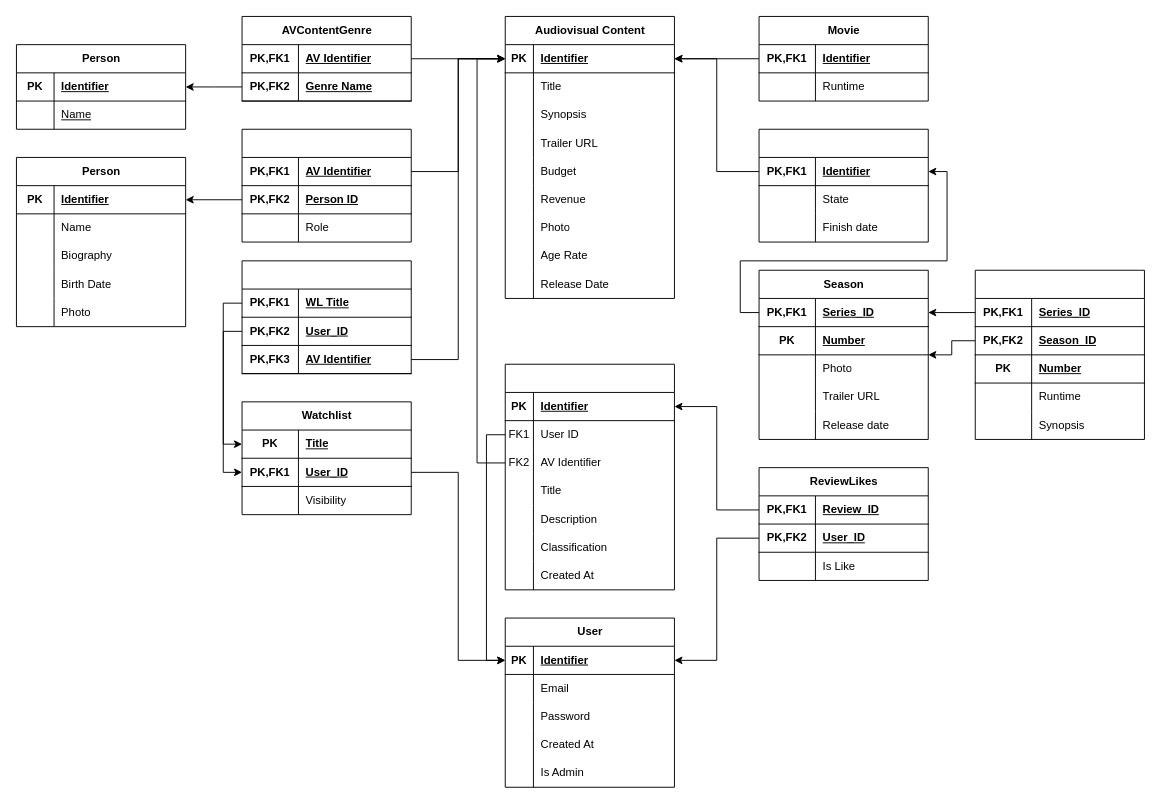
Image size: 1161x804. Some labels were removed from this diagram. The shapes that lost their labels are listed below. From the top down, each one's box as (x1, y1, x2, y2) in pixels, then its label:
(241, 128, 411, 242): AVContentPerson
(758, 128, 928, 242): TV Series
(241, 260, 411, 374): WatchlistAV
(974, 269, 1144, 439): Episode
(504, 363, 674, 590): Review
